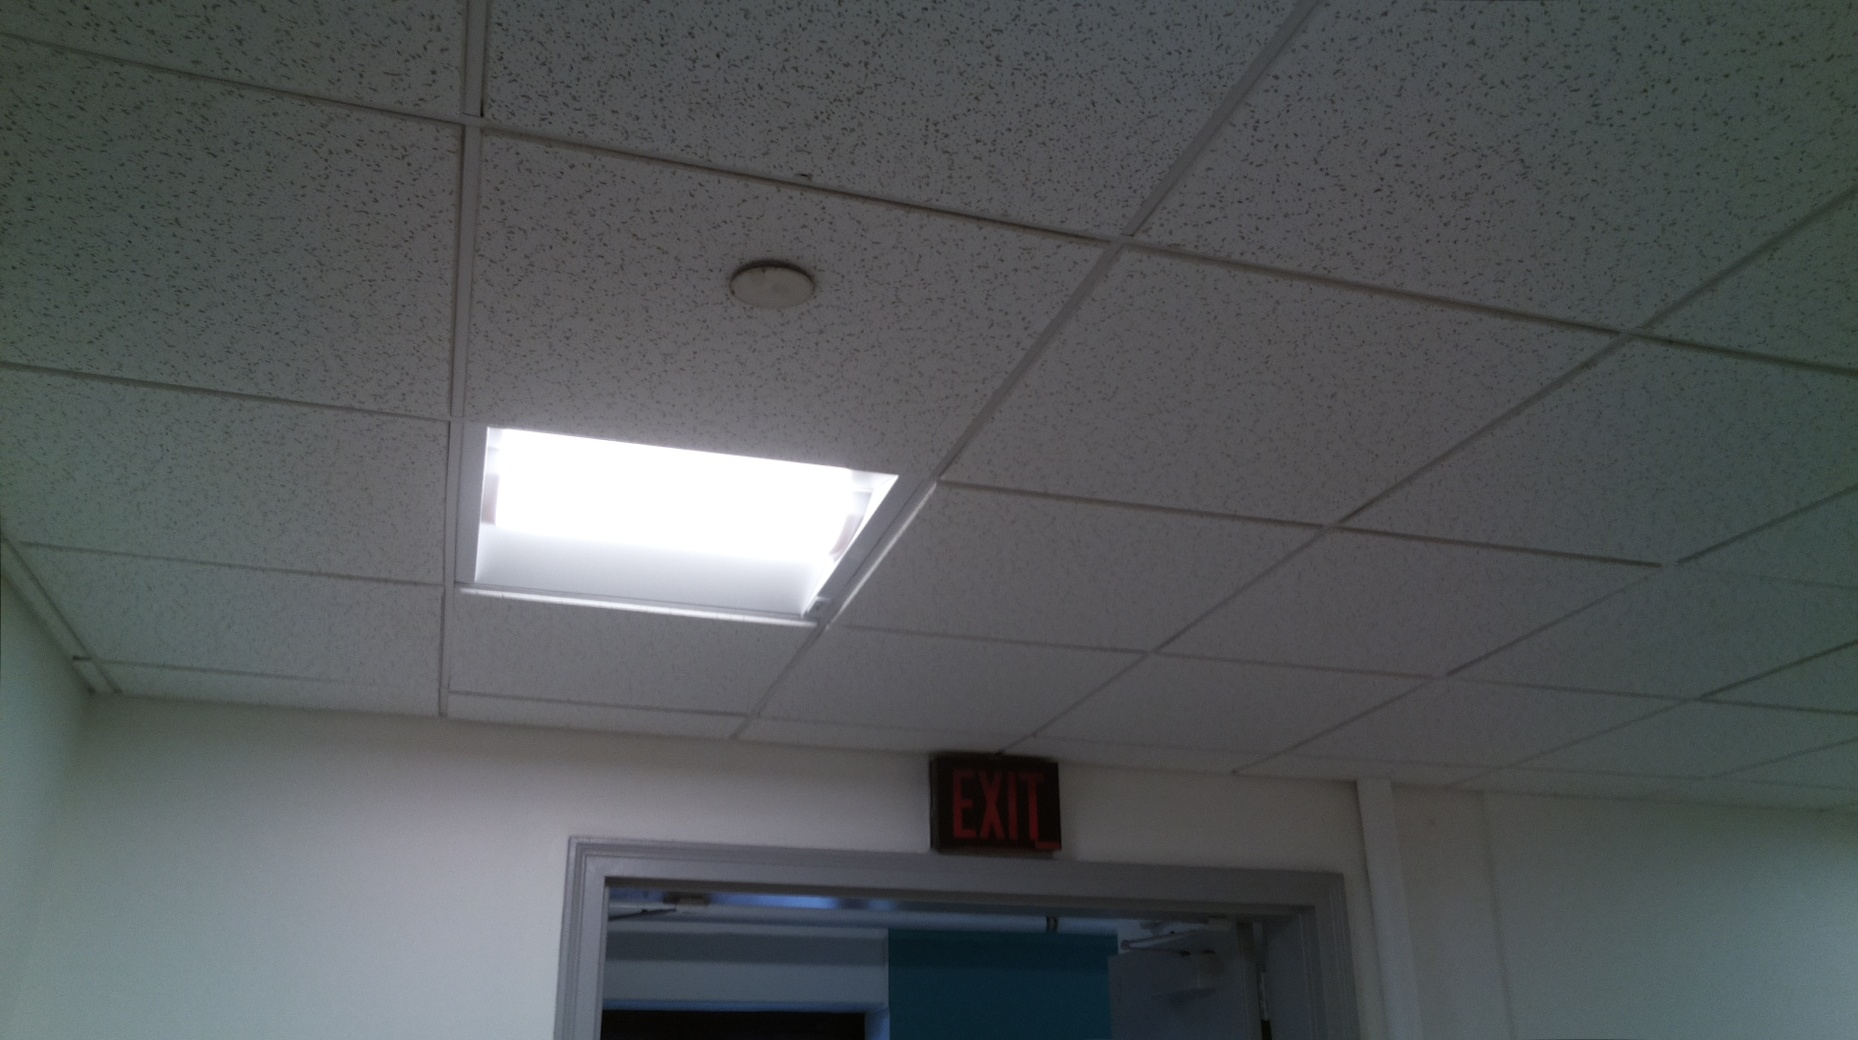exit sign: (924, 747, 1068, 860)
